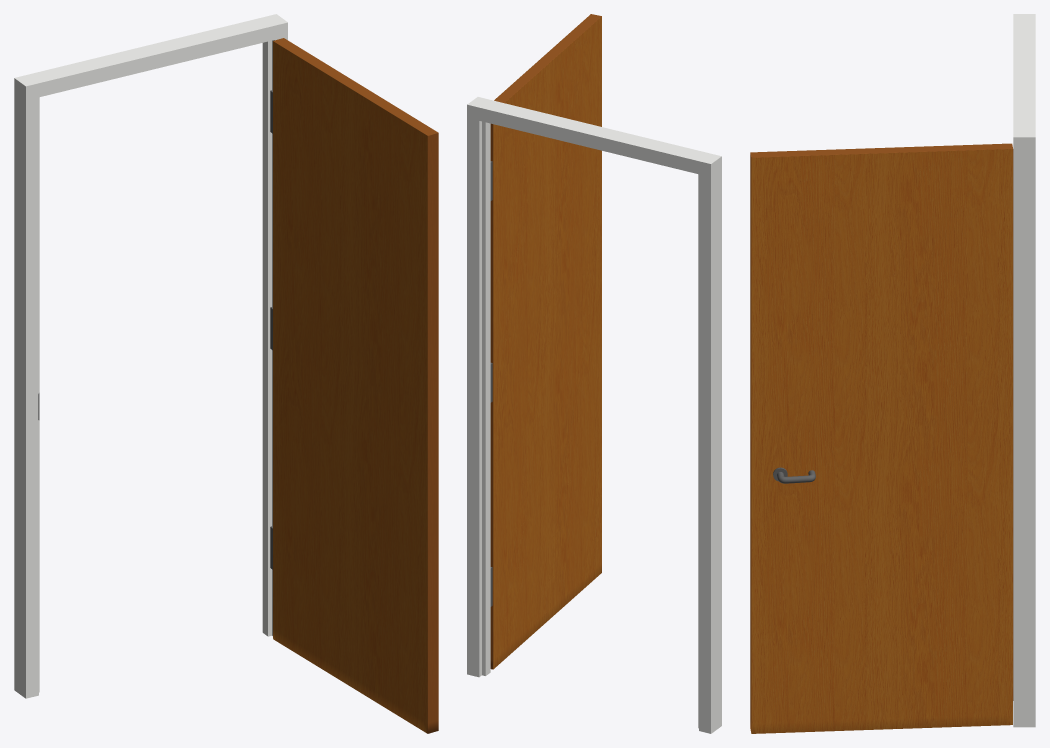
File: GEO_HearthDoor_Set.fbx
3 renders of one model, left to right at view 1: azimuth 30°, elevation 25°; view 2: azimuth 150°, elevation 25°; view 3: azimuth 270°, elevation 25°, orthographic. The views are drawn at different scales.
Visible parts, largest first — view 1: GEO_HearthDoor, GEO_HearthDoor_Frame; view 2: GEO_HearthDoor, GEO_HearthDoor_Frame; view 3: GEO_HearthDoor, GEO_HearthDoor_Frame.
Part boxes in pixels (x1,y1,x2,y2): GEO_HearthDoor: (273, 38, 438, 733); GEO_HearthDoor_Frame: (14, 14, 287, 698); GEO_HearthDoor: (490, 14, 601, 669); GEO_HearthDoor_Frame: (467, 97, 721, 733); GEO_HearthDoor: (750, 143, 1013, 733); GEO_HearthDoor_Frame: (1013, 14, 1035, 727).
Bounding box in the file's own units: 5.98 × 12.03 × 5.28.
3 materials, 2 textured.
